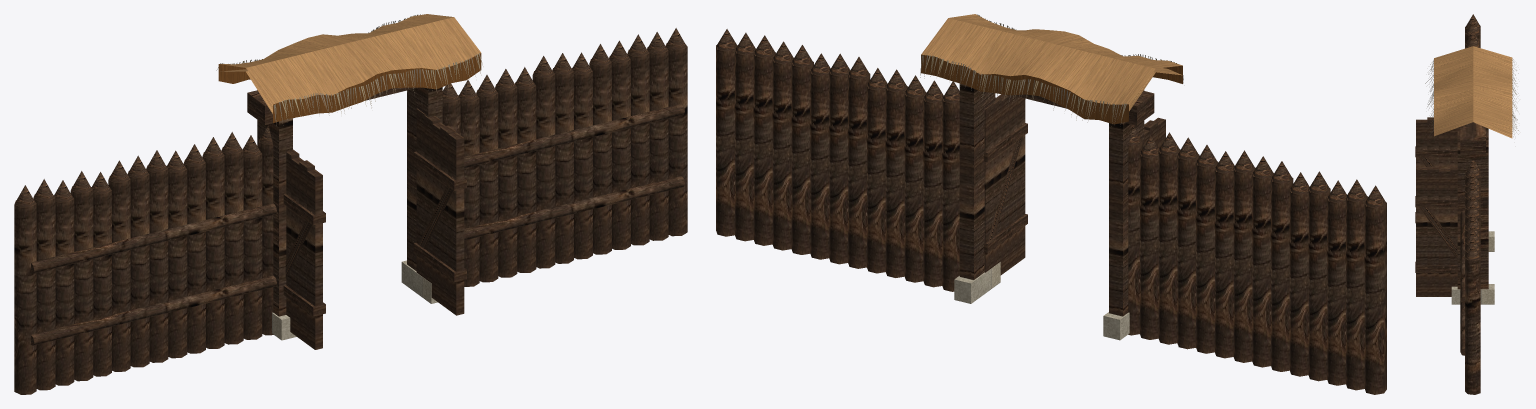
Rendered from woodgate.glb.
3 renders of one model, left to right at view 1: azimuth 30°, elevation 25°; view 2: azimuth 150°, elevation 25°; view 3: azimuth 270°, elevation 25°, orthographic. The views are drawn at different scales.
Parts seen in each view (by area): view 1: part_0, part_2, part_3, part_4, part_1; view 2: part_0, part_2, part_3, part_4, part_1; view 3: part_0, part_2, part_1, part_4.
Boxes of the visible parts, box(x1,y1,x2,y2) form: part_0: box(14, 28, 687, 394); part_2: box(220, 14, 480, 113); part_3: box(218, 53, 481, 123); part_4: box(216, 14, 483, 125); part_1: box(272, 260, 437, 340); part_0: box(716, 29, 1386, 394); part_2: box(921, 14, 1182, 111); part_3: box(921, 54, 1182, 124); part_4: box(920, 14, 1183, 126); part_1: box(954, 262, 1129, 340); part_0: box(1415, 14, 1488, 394); part_2: box(1434, 46, 1512, 138); part_1: box(1451, 231, 1494, 304); part_4: box(1425, 58, 1518, 140).
Size of the model in its own units: 6.12 by 2.35 by 1.17.
5 materials, 4 textured.
